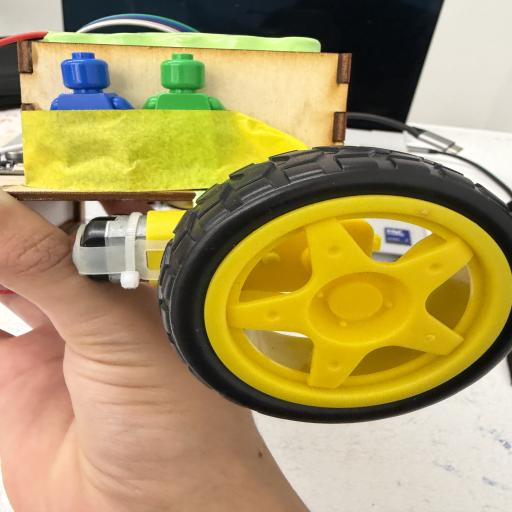Blue-Lego: (51, 52, 124, 110)
Green-Lego: (143, 53, 226, 110)
